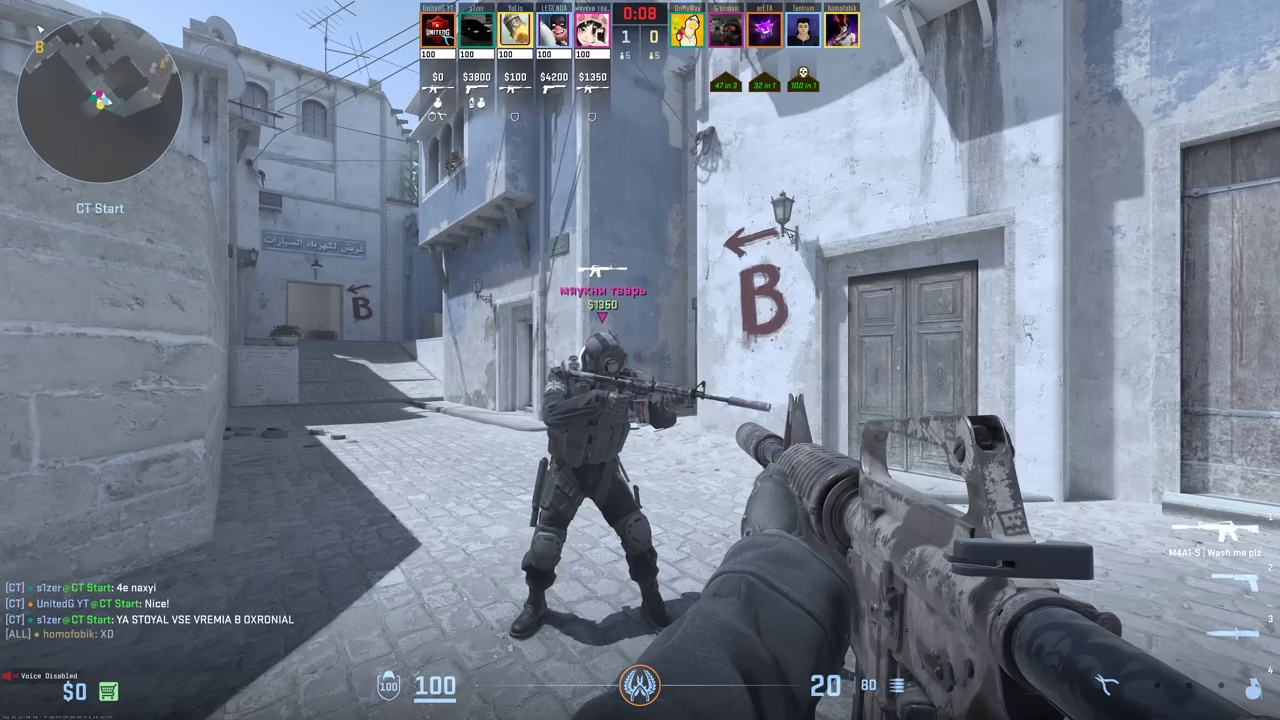CT: (526, 332, 664, 642)
